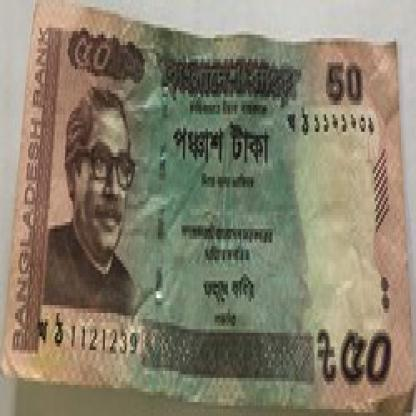Fifty taka: (334, 322, 396, 399), (66, 20, 120, 86)
